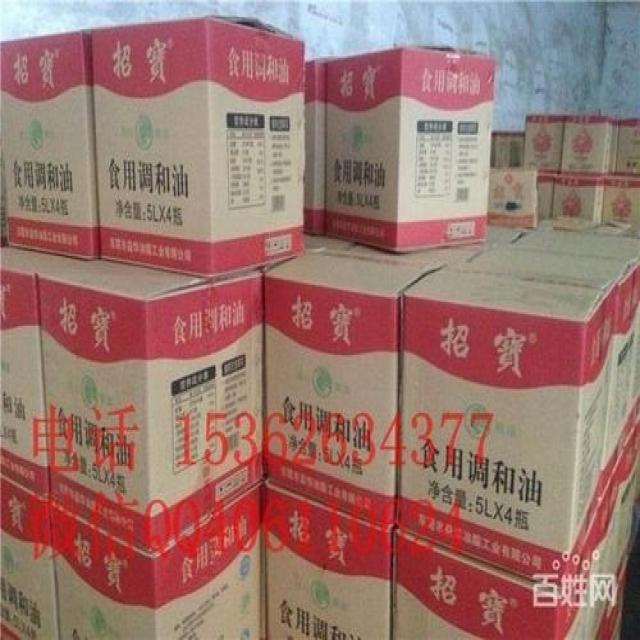box: (397, 261, 614, 592), (36, 256, 262, 555), (91, 14, 306, 278), (264, 241, 449, 529), (474, 230, 640, 493), (328, 44, 497, 251), (392, 492, 617, 640), (50, 485, 264, 640), (0, 27, 101, 259), (264, 485, 394, 640), (0, 244, 67, 498), (0, 473, 60, 640), (603, 416, 640, 602), (303, 56, 328, 234), (559, 114, 617, 172), (486, 166, 536, 229), (552, 174, 604, 225), (524, 114, 564, 171), (604, 174, 640, 227), (616, 118, 640, 174), (490, 131, 524, 167), (535, 172, 558, 222)
